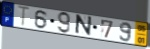6: (34, 9, 49, 30)
7: (100, 19, 114, 39)
9: (57, 11, 72, 35), (118, 22, 133, 43)
N: (74, 14, 93, 38)
T: (16, 5, 31, 29)
